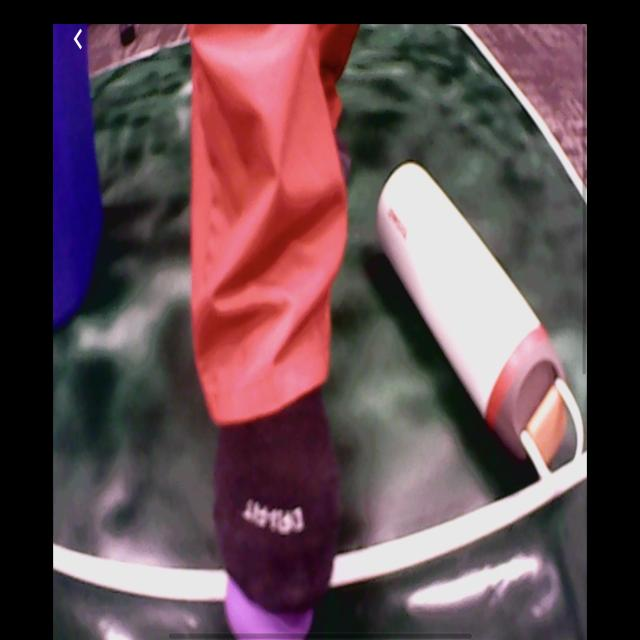ball: (226, 574, 314, 638)
